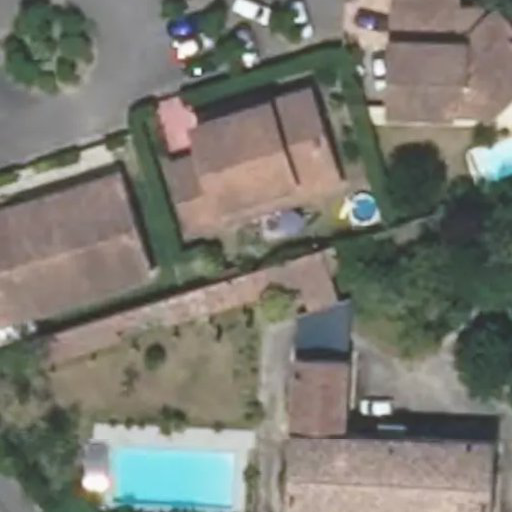pool: (105, 428, 256, 507), (469, 133, 512, 184), (349, 193, 380, 225)
